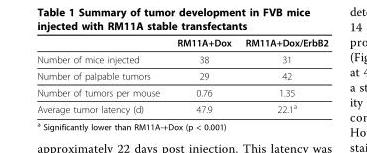table: (36, 36, 327, 114)
table column: (36, 36, 167, 114), (237, 36, 327, 114), (167, 36, 237, 114)
table column header: (36, 36, 327, 50)
table row: (36, 50, 327, 67), (36, 67, 327, 84), (36, 84, 327, 99), (36, 99, 327, 114), (36, 36, 327, 50)
